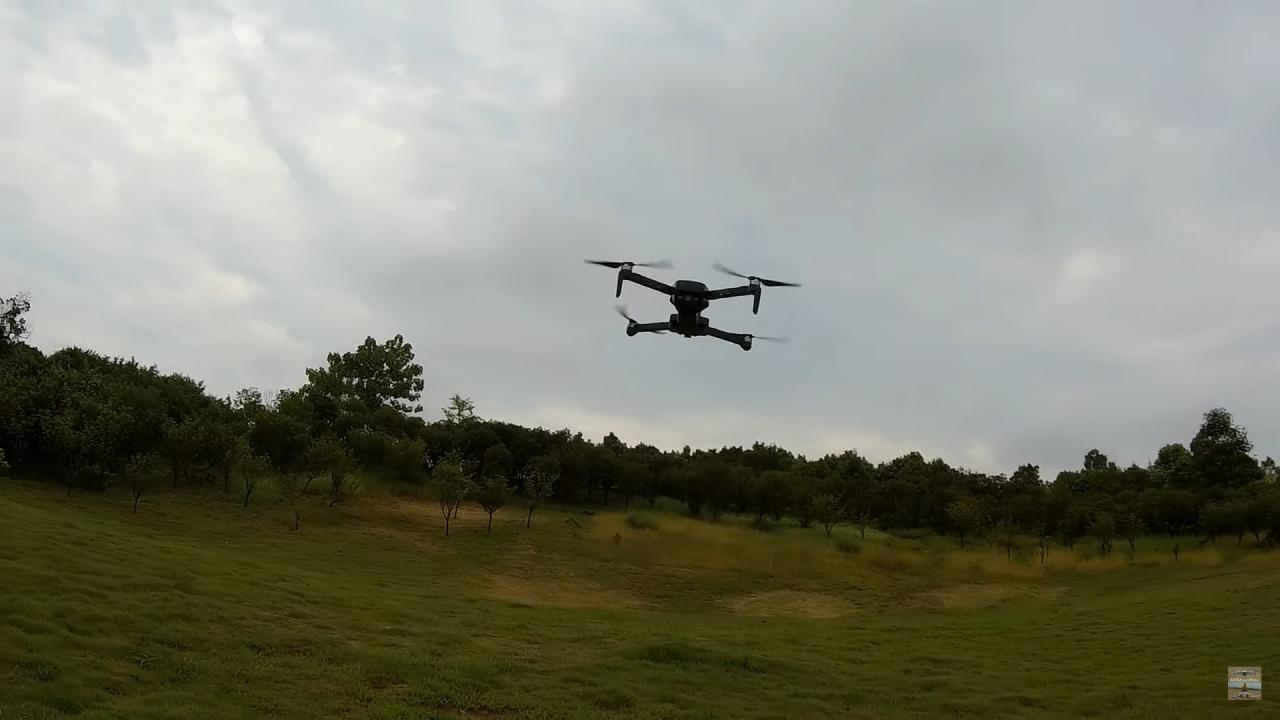Drone: (572, 239, 812, 366)
